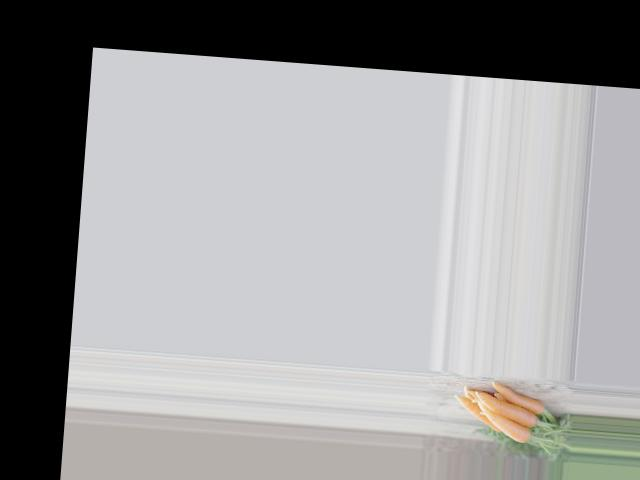carrot: (483, 380, 547, 416)
